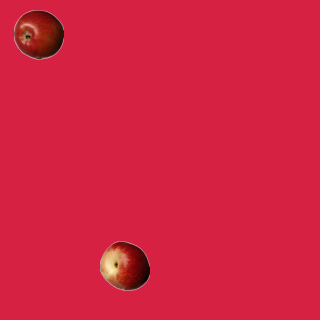Apple Braeburn: (13, 9, 63, 59)
Nectarine: (99, 240, 149, 290)
